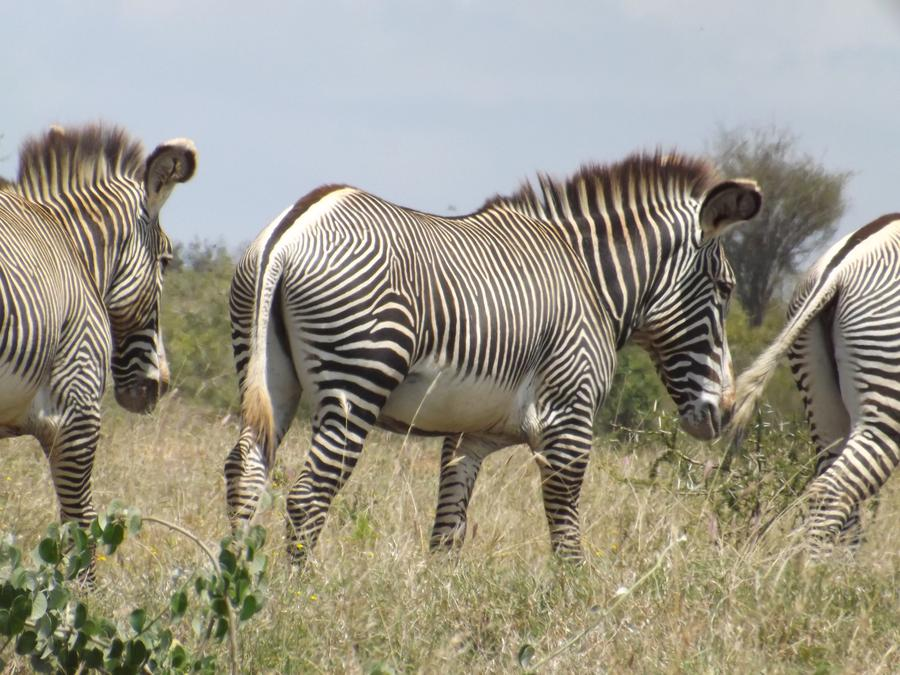zebra_grevys: (222, 166, 599, 431)
